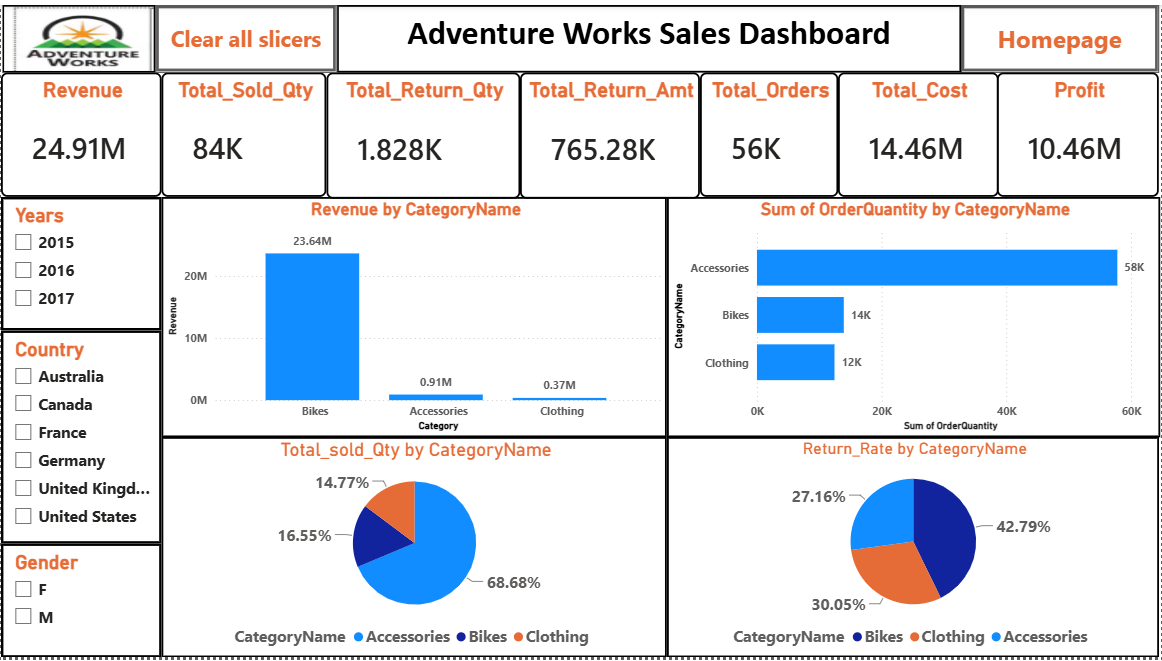

Layout of this report page (visuals, bound fields, positions):
{"tool":"powerbi","page":{"name":"Category_analysis","canvas":[1280,720],"ordinal":1},"visuals":[{"type":"clusteredColumnChart","fields":{"Category":["Product_Category.CategoryName"],"Y":["Sales.Revenue"]},"box":[177.2,212,558.2,265],"z":0},{"type":"textbox","box":[371.1,0,689.1,74.5],"z":1000},{"type":"cardVisual","title":"Revenue","fields":{"Data":["Sales.Revenue"]},"box":[0,74.5,177.2,137.5],"z":2000},{"type":"clusteredBarChart","fields":{"Category":["Product_Category.CategoryName"],"Y":["Sum(Sales.OrderQuantity)"]},"box":[735.5,212,545,265],"z":3000},{"type":"cardVisual","title":"Total_Sold_Qty","fields":{"Data":["Sales.total_sold_Qty"]},"box":[177.2,74.5,182.2,137.5],"z":4000},{"type":"cardVisual","title":"Total_Return_Qty","fields":{"Data":["Returns.total_return_Qty"]},"box":[359.5,74.5,213.7,139.1],"z":5000},{"type":"cardVisual","title":"Total_Return_Amt","fields":{"Data":["Returns.total_return_Amount"]},"box":[573.1,74.5,198.8,139.1],"z":6000},{"type":"pieChart","fields":{"Category":["Product_Category.CategoryName"],"Y":["Returns.Return_Rate"]},"box":[735.5,477.1,543.3,243.5],"z":7000},{"type":"pieChart","title":"Total_sold_Qty by CategoryName","fields":{"Category":["Product_Category.CategoryName"],"Y":["Sales.total_sold_Qty"]},"box":[177.2,477.1,558.2,243.5],"z":8000},{"type":"cardVisual","title":"Total_Orders","fields":{"Data":["Sales.Total_Orders"]},"box":[771.9,74.5,152.4,137.5],"z":9000},{"type":"cardVisual","title":"Total_Cost","fields":{"Data":["Sales.Total_Cost"]},"box":[924.3,74.5,177.2,137.5],"z":10000},{"type":"cardVisual","title":"Profit","fields":{"Data":["Sales.Profit"]},"box":[1099.9,74.5,178.9,137.5],"z":11000},{"type":"slicer","fields":{"Values":["Customers.Gender"]},"box":[0,594.7,177.2,125.9],"z":12000},{"type":"slicer","fields":{"Values":["Calendars.Dates.Years"]},"box":[0,212,177.2,147.4],"z":13000},{"type":"slicer","fields":{"Values":["Territories.Country"]},"box":[0,359.5,177.2,235.2],"z":14000},{"type":"actionButton","box":[170.6,0,200.4,74.5],"z":15000},{"type":"actionButton","title":"Homepage","box":[1060.1,0,218.7,74.5],"z":16000},{"type":"image","box":[1.7,0,169,74.5],"z":17000}]}

Visuals, with their boxes in screenshot pixels (x1, y1, x2, y2), scaled from the page's 1280x720 canvas onto the 1162x661 screenshot:
clusteredColumnChart - Product_Category.CategoryName x Sales.Revenue: 161/195/668/438
textbox: 337/0/962/68
"Revenue" cardVisual: 0/68/161/195
clusteredBarChart - Product_Category.CategoryName x Sum(Sales.OrderQuantity): 668/195/1161/438
"Total_Sold_Qty" cardVisual: 161/68/326/195
"Total_Return_Qty" cardVisual: 326/68/520/196
"Total_Return_Amt" cardVisual: 520/68/701/196
pieChart - Product_Category.CategoryName x Returns.Return_Rate: 668/438/1161/660
"Total_sold_Qty by CategoryName" pieChart: 161/438/668/660
"Total_Orders" cardVisual: 701/68/839/195
"Total_Cost" cardVisual: 839/68/1000/195
"Profit" cardVisual: 999/68/1161/195
slicer - Customers.Gender: 0/546/161/660
slicer - Calendars.Dates.Years: 0/195/161/330
slicer - Territories.Country: 0/330/161/546
actionButton: 155/0/337/68
"Homepage" actionButton: 962/0/1161/68
image: 2/0/155/68
